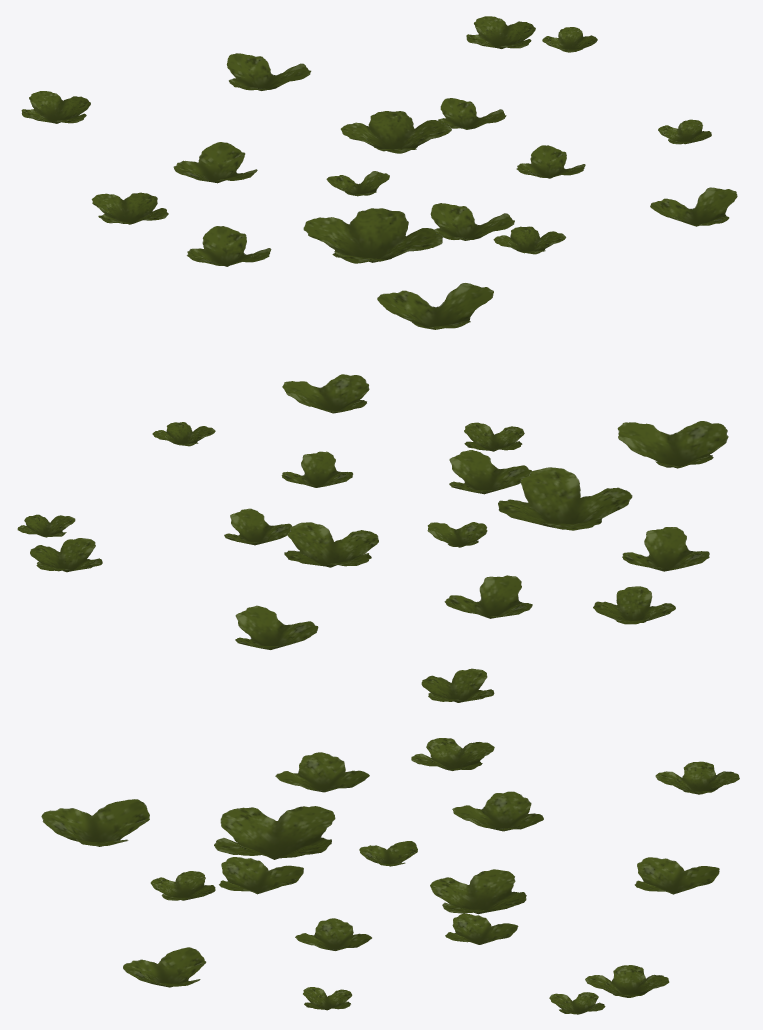
Rendered from SM_Clover.fbx.
3 views of the same model, one above another, from view 1: azimuth 30°, elevation 25°; view 2: azimuth 150°, elevation 25°; view 3: azimuth 270°, elevation 25° (orthographic). The views are drawn at different scales.
Visible parts, largest first — view 1: SM_Clover; view 2: SM_Clover; view 3: SM_Clover.
Part boxes in pixels (box(x1,y1,x2,y2)): SM_Clover: box(21, 16, 737, 329); SM_Clover: box(17, 374, 728, 702); SM_Clover: box(41, 738, 739, 1014).
Size of the model in its own units: 34.82 by 1.72 by 38.23.
